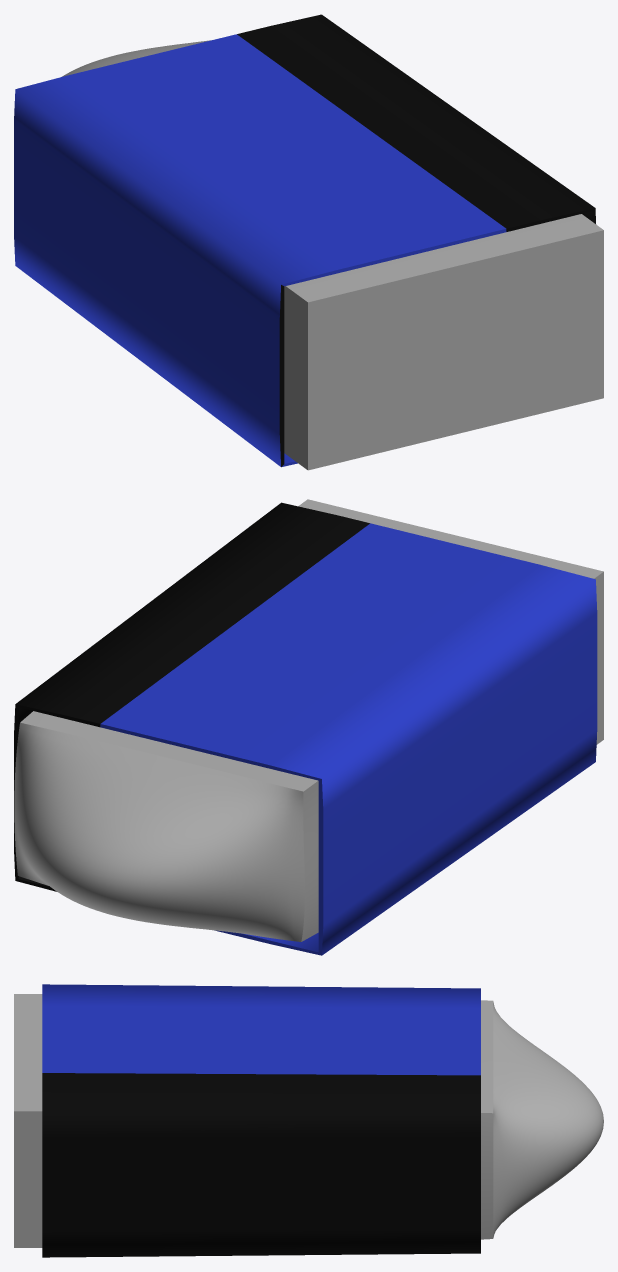
File: eraser1.FBX
3 renders of one model, top to bottom at view 1: azimuth 30°, elevation 25°; view 2: azimuth 150°, elevation 25°; view 3: azimuth 270°, elevation 25°, orthographic. The views are drawn at different scales.
Visible parts, largest first — view 1: Loft001, Box002; view 2: Loft001, Box002; view 3: Loft001, Box002.
Boxes of the visible parts, <box> form: Loft001: <box>14,14,595,467</box>; Box002: <box>62,40,603,470</box>; Loft001: <box>14,502,597,955</box>; Box002: <box>14,499,603,941</box>; Loft001: <box>42,984,480,1257</box>; Box002: <box>14,994,603,1247</box>.
Size of the model in its own units: 64.51 by 35.9 by 128.
